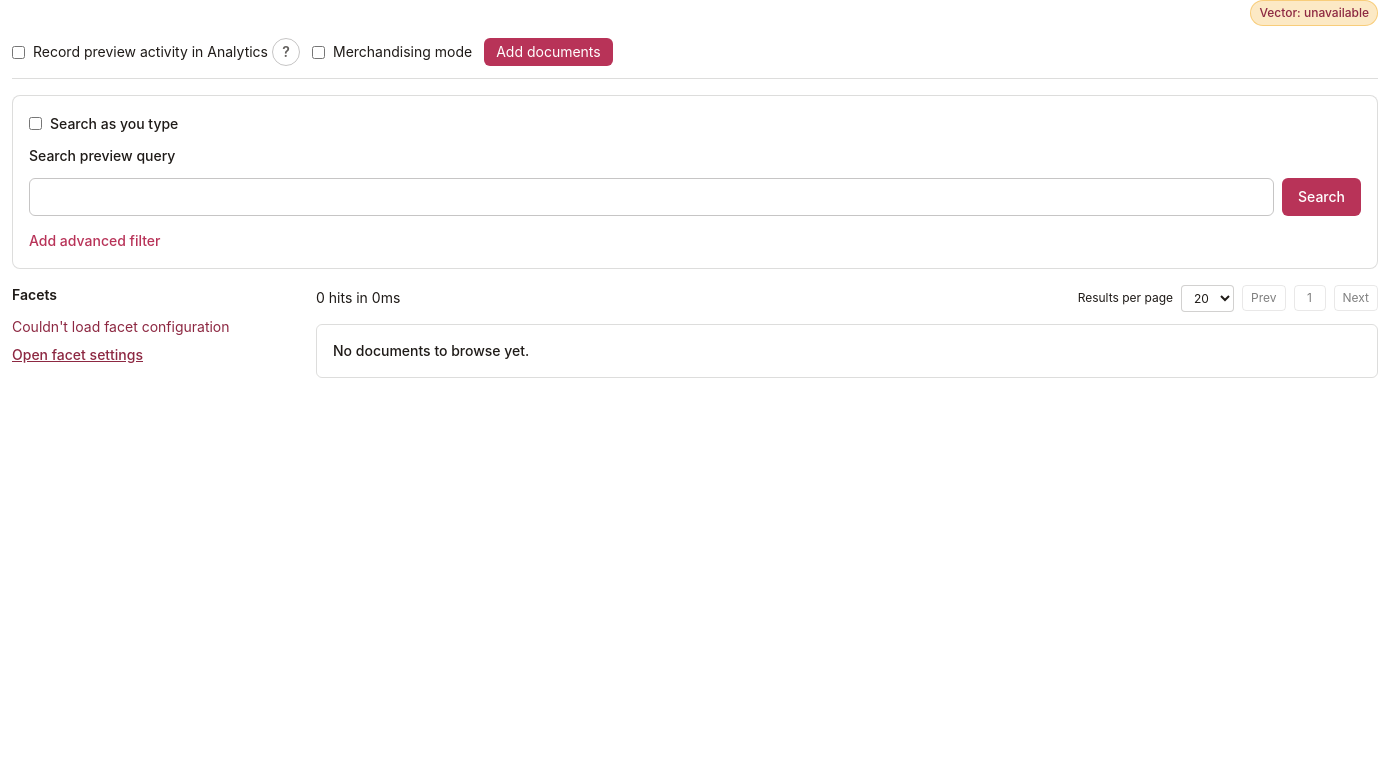
Test: InstantSearch analytics › does not correlate retained hits while a replacement search is pending
This screenshot has width=1390, height=768.
Click the checkbox labelled "Record preview activity in Analytics": [18, 52] box left=12, top=46, right=25, bottom=58
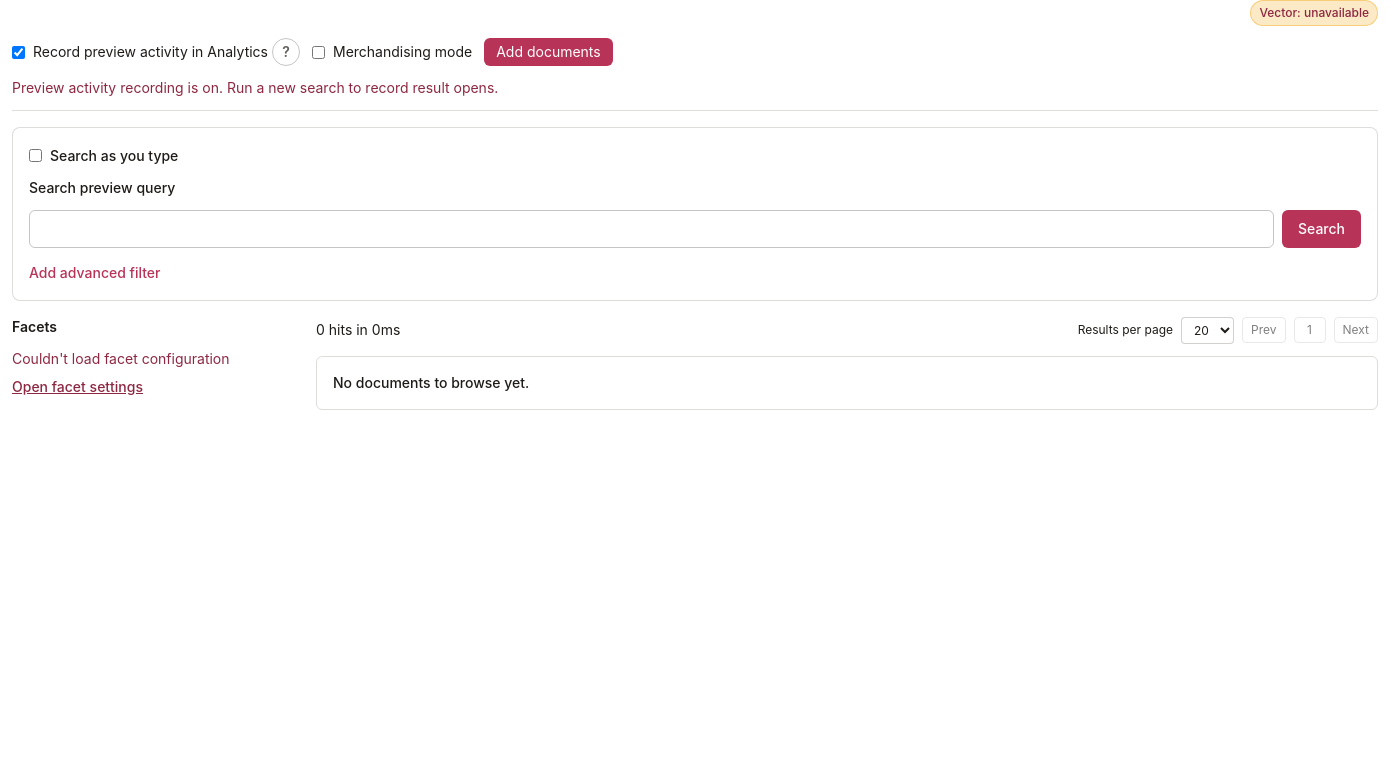
In the search field labelled "Search preview query": [652, 228] box left=29, top=210, right=1274, bottom=248, type "old query"
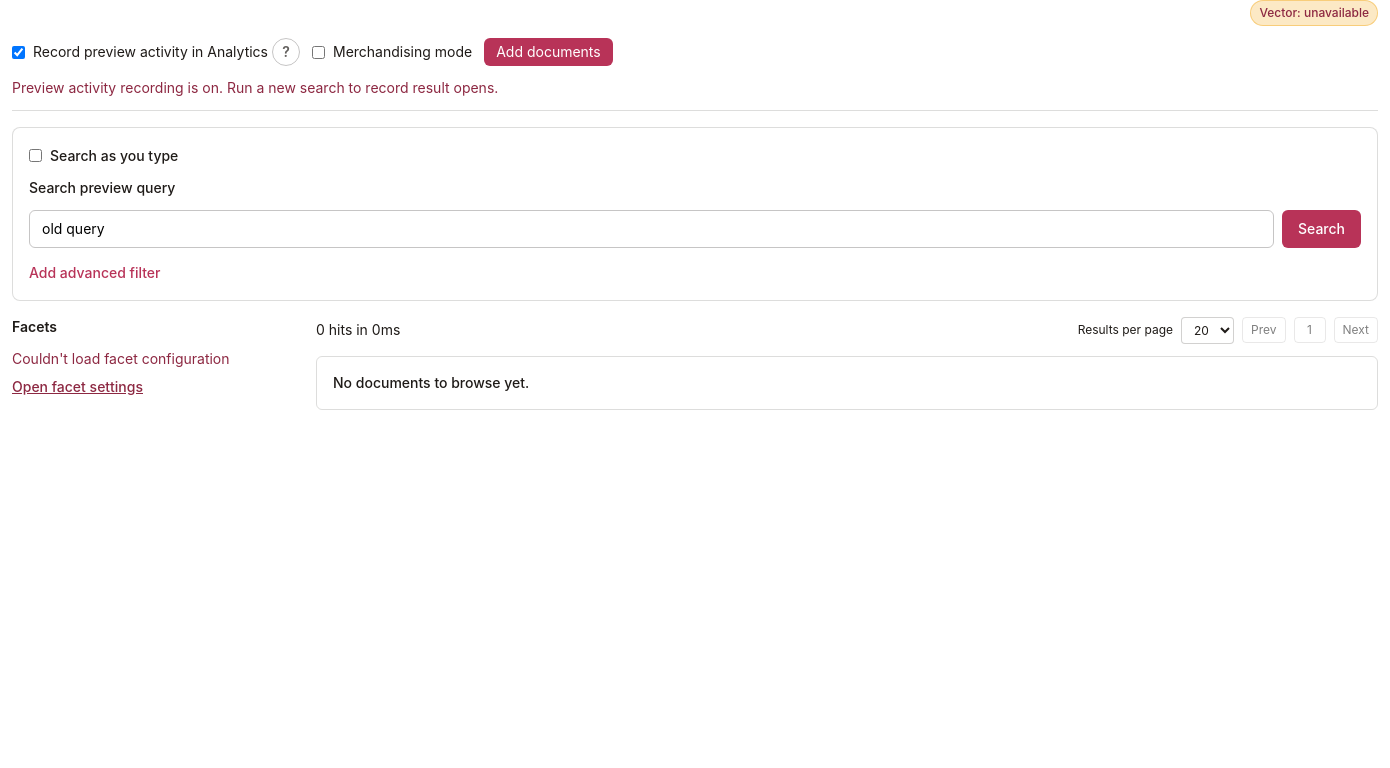
Press Enter in the search field labelled "Search preview query", box left=29, top=210, right=1274, bottom=248
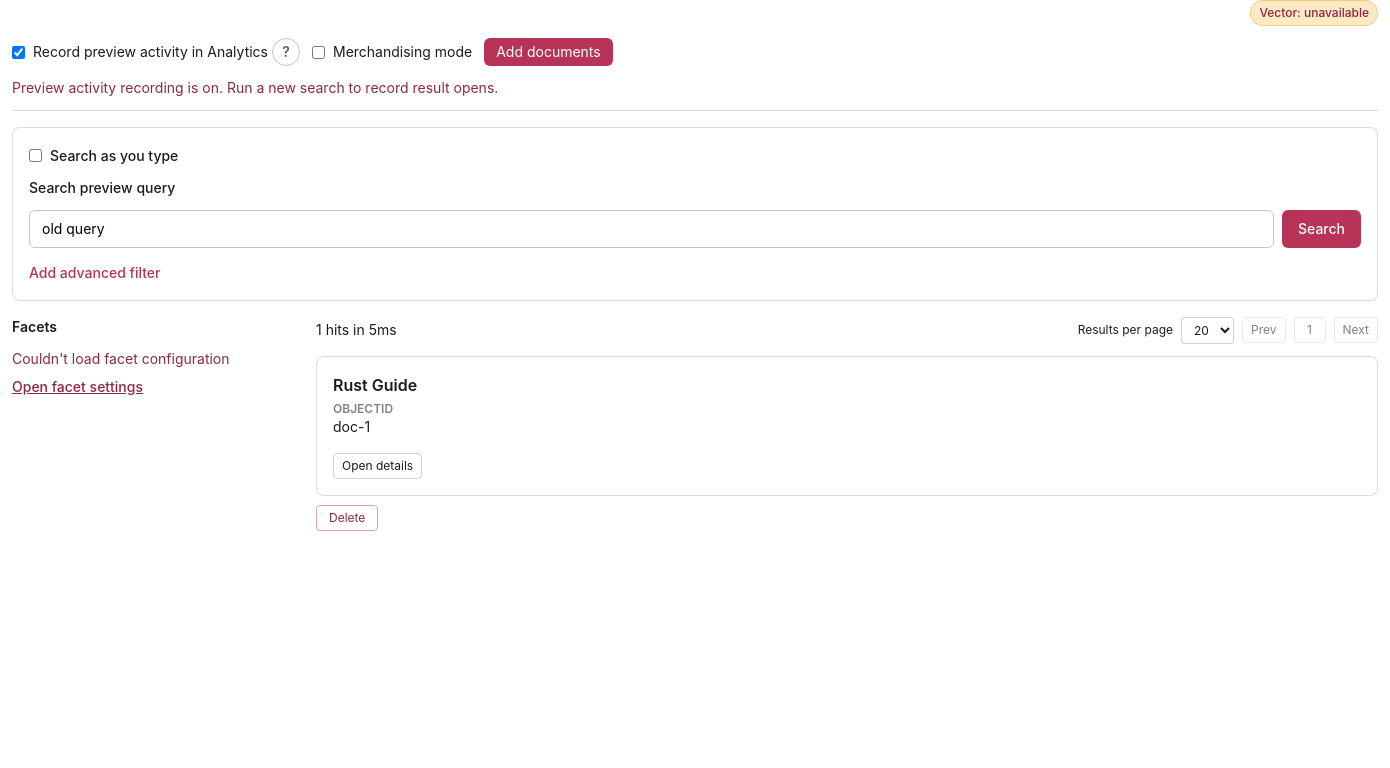
Expected: the text "Rust Guide" is shown, left=333, top=374, right=417, bottom=394
Replace the text in the search field labelled "Search preview query" with "replacement query": [652, 228] box left=29, top=210, right=1274, bottom=248
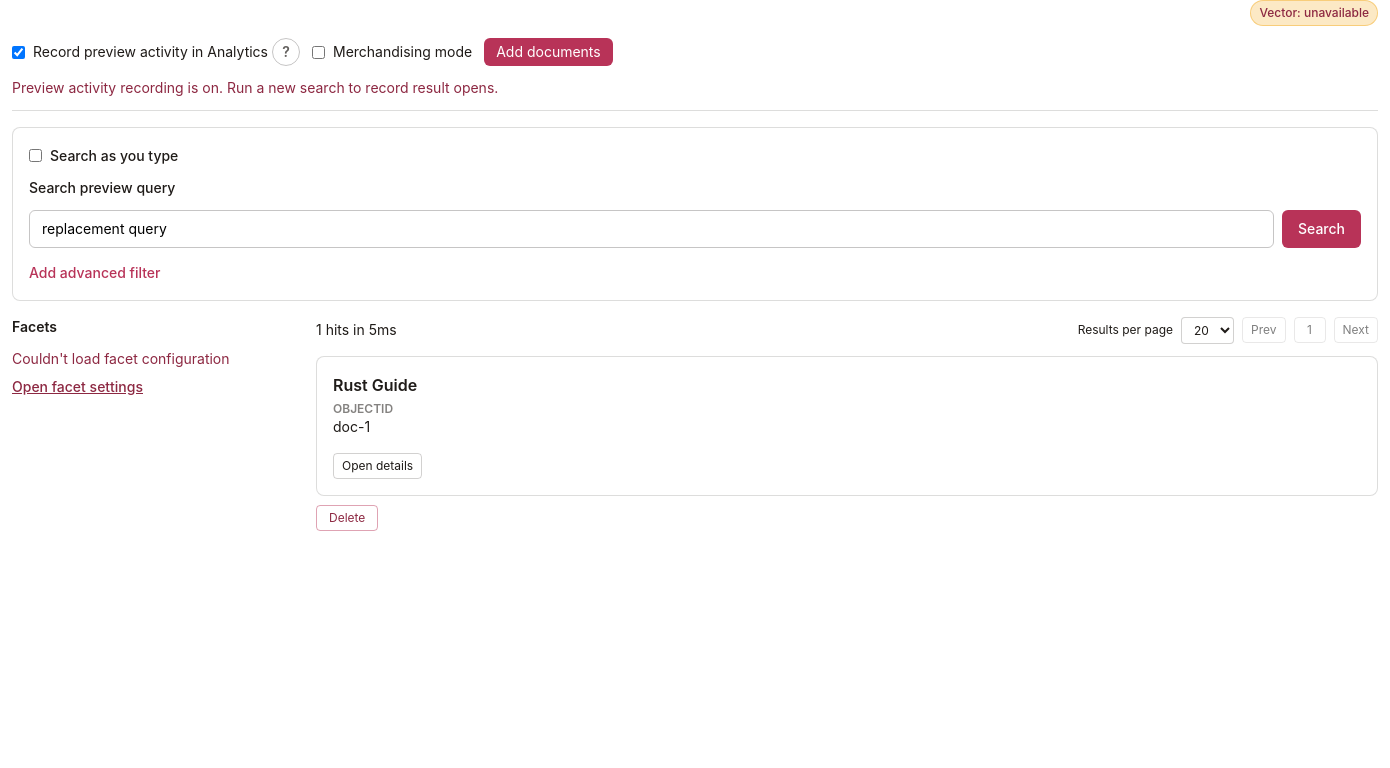
Press Enter in the search field labelled "Search preview query", box left=29, top=210, right=1274, bottom=248
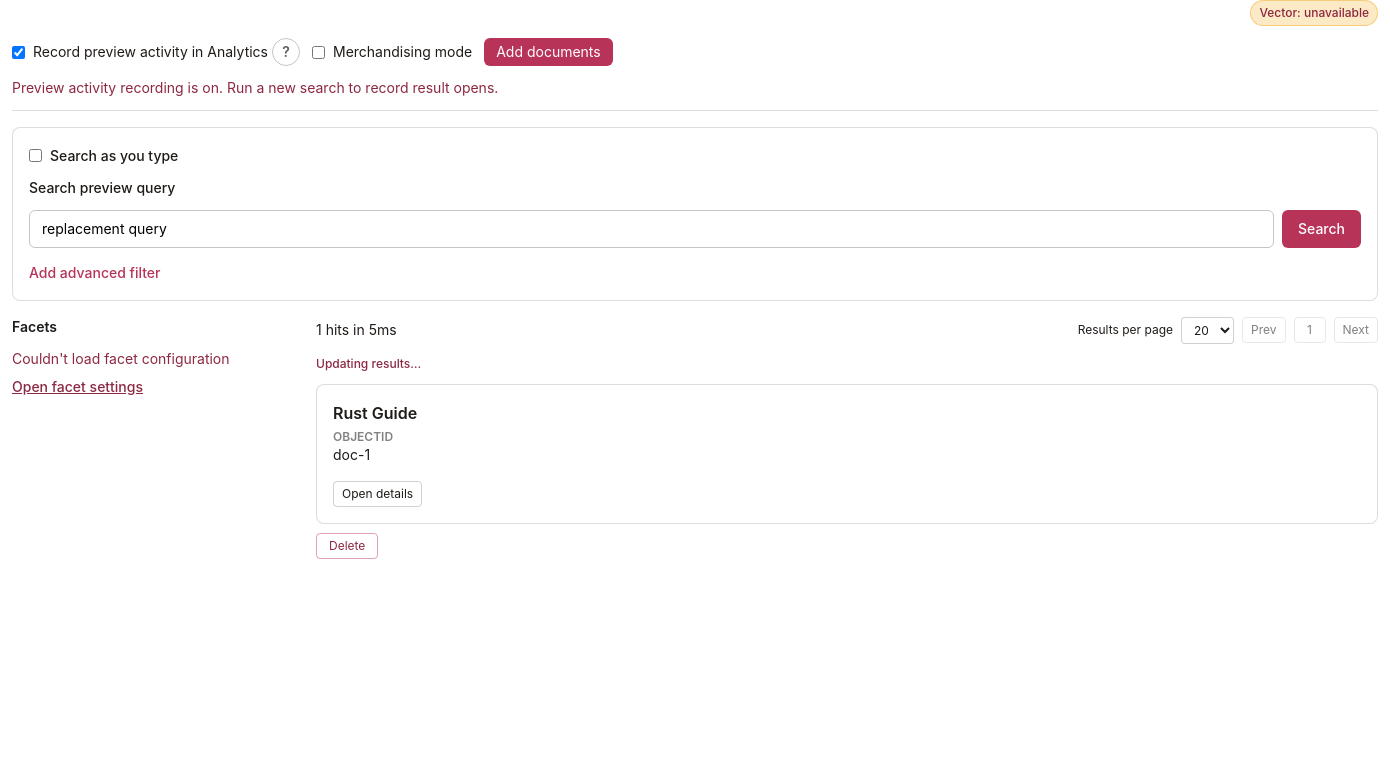
Expected: the text "Updating results…" is shown, left=316, top=356, right=421, bottom=370
Click the button "Open details": [378, 494] box left=333, top=480, right=422, bottom=506
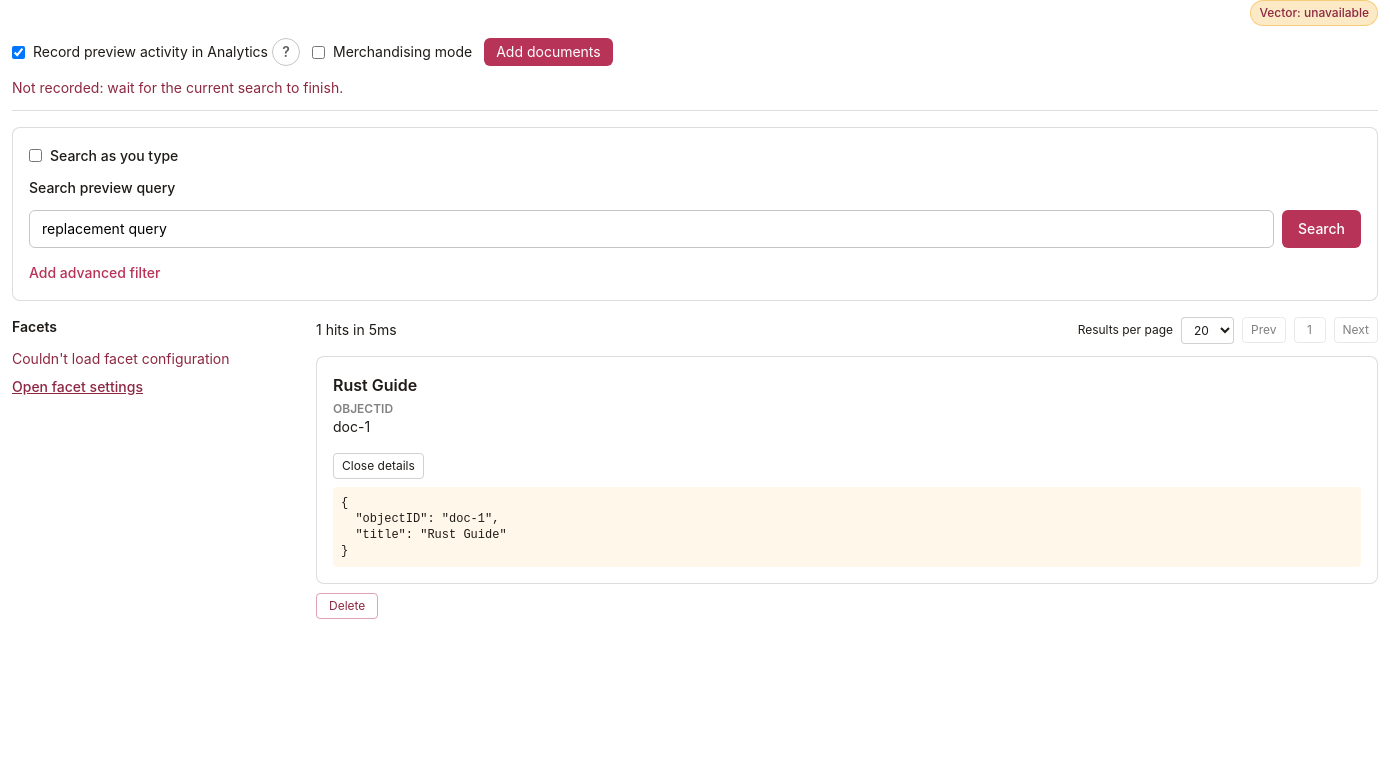
Expected: the text "Not recorded: wait for the current search to finish." is shown, left=12, top=79, right=343, bottom=96
Expected: the text "Updating results…" is gone
